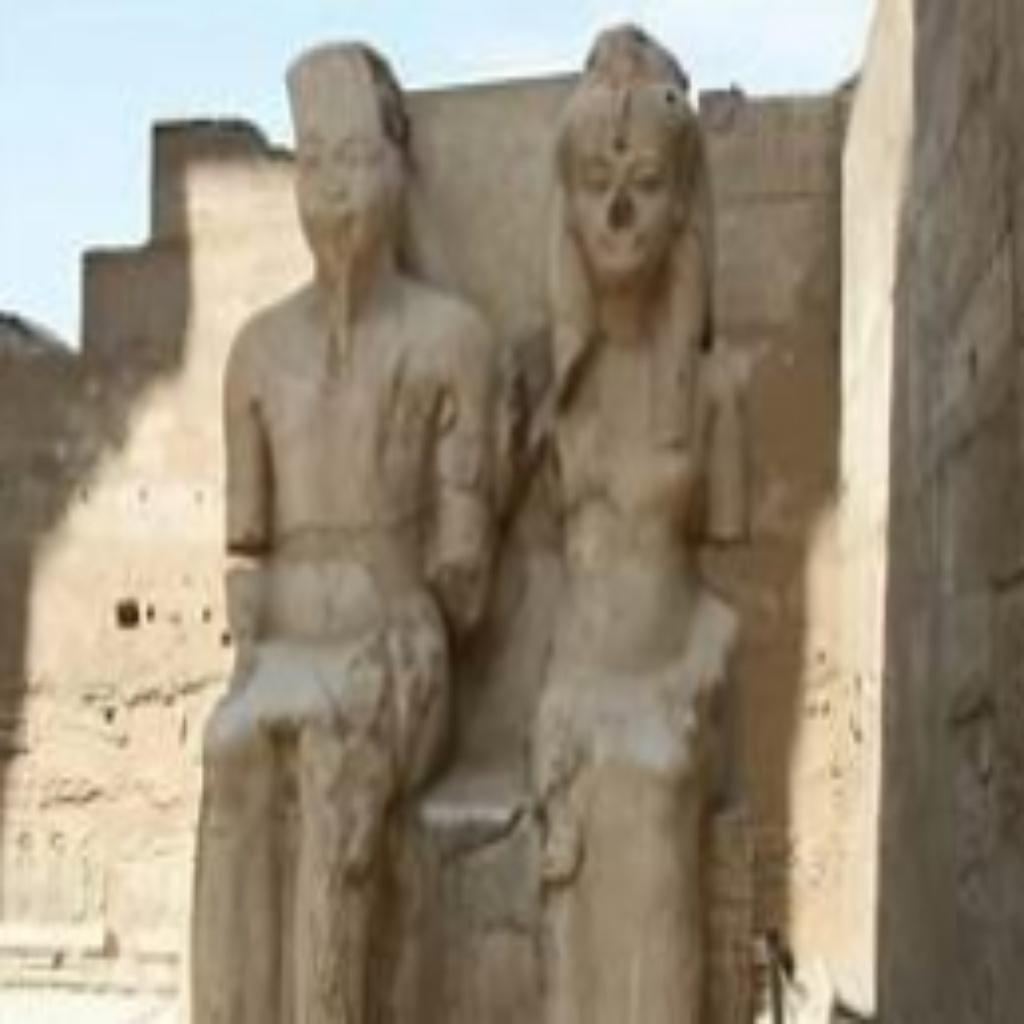Statue of Ankhesenamun: (532, 12, 754, 1018)
Statue of Tutankhamun: (182, 30, 484, 1018)
